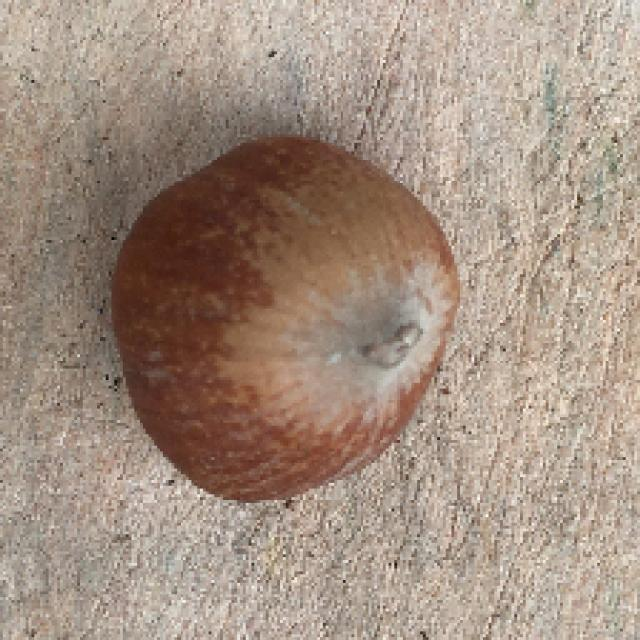qualityHazelnut: (104, 137, 463, 500)
